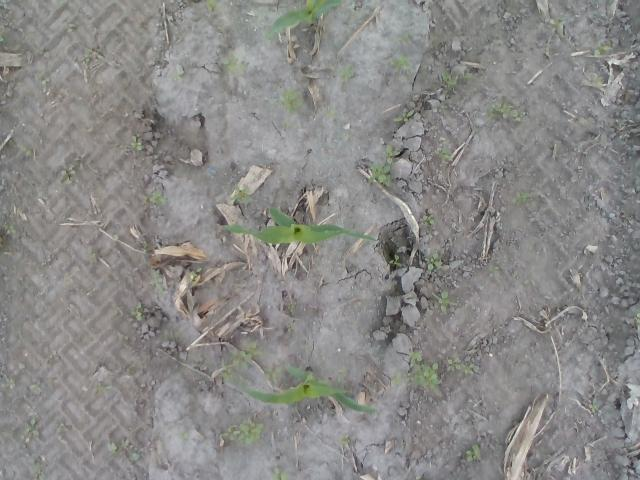Maize: (242, 364, 378, 413), (219, 203, 379, 243), (267, 0, 343, 37)
Weeds: (403, 349, 442, 392), (220, 418, 264, 446), (229, 340, 262, 370), (438, 70, 475, 94), (17, 450, 45, 480), (486, 102, 525, 122), (221, 48, 250, 74), (279, 86, 304, 114), (367, 163, 393, 186), (445, 358, 478, 376), (384, 54, 416, 72), (326, 63, 358, 80), (432, 290, 454, 314), (62, 160, 81, 185), (144, 190, 168, 209), (262, 366, 288, 383), (160, 325, 184, 342), (234, 186, 256, 204), (384, 143, 400, 164), (465, 442, 480, 464), (387, 369, 404, 388), (105, 440, 129, 453), (392, 30, 417, 42), (150, 269, 164, 290), (424, 254, 440, 272), (511, 191, 529, 207), (592, 41, 610, 57), (392, 110, 414, 123), (222, 360, 235, 382), (25, 416, 39, 436), (80, 49, 97, 65), (128, 134, 144, 150), (434, 147, 452, 161), (129, 303, 143, 321), (339, 432, 352, 449), (54, 414, 65, 434), (323, 103, 337, 118), (419, 214, 436, 226), (336, 367, 348, 384), (64, 273, 76, 290), (548, 16, 566, 27), (170, 68, 186, 80), (272, 468, 288, 480), (207, 0, 224, 11), (190, 266, 203, 280), (4, 376, 16, 390), (36, 64, 46, 80), (590, 76, 603, 88), (2, 223, 16, 234), (62, 22, 76, 33), (21, 146, 33, 158), (389, 255, 401, 266), (588, 401, 599, 413), (0, 30, 8, 46), (95, 383, 106, 394), (614, 118, 626, 128), (287, 302, 296, 314), (88, 246, 98, 256), (129, 451, 139, 461), (33, 47, 45, 55), (634, 310, 640, 326), (51, 0, 64, 7), (31, 384, 42, 392), (216, 163, 225, 172), (143, 239, 151, 249), (438, 105, 448, 113), (180, 432, 188, 440), (287, 324, 294, 332), (112, 234, 120, 241)
